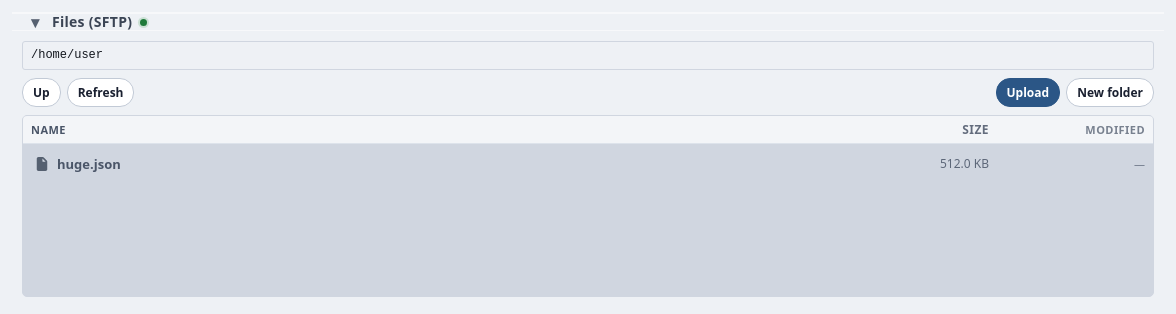
Scenario: SftpPanel text editing › refuses to open files over the 512KiB GUI cap
The image size is (1176, 314).
Double-click the text "huge.json" at (78, 164), box [35, 155, 121, 173]
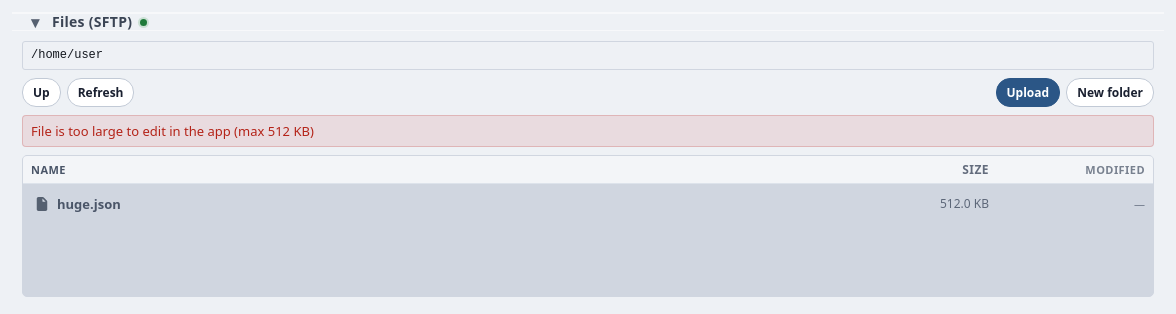
Expected: the text "File is too large to edit in the app (max 512 KB)" is shown, [22, 115, 1154, 147]
